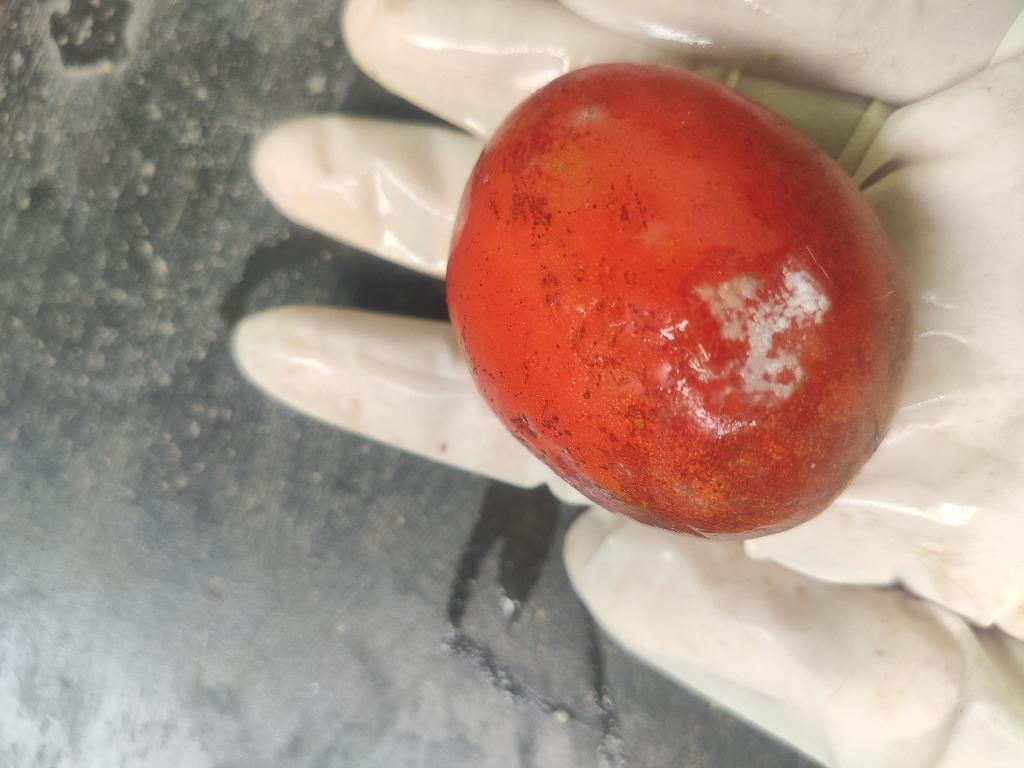rot_mold_decay: (694, 267, 831, 404)
tomato: (447, 64, 910, 537)
